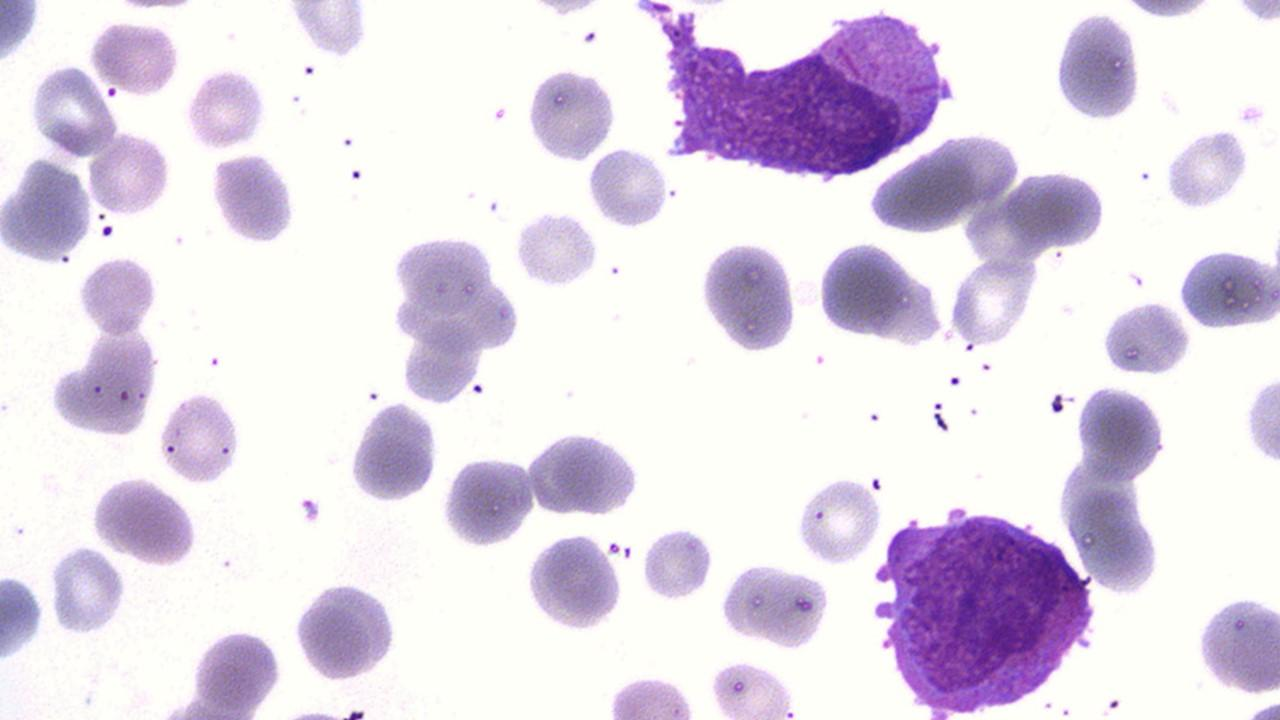Platelets: (1233, 98, 1269, 128), (870, 598, 894, 620), (1049, 391, 1067, 416), (872, 562, 892, 584), (932, 404, 948, 430), (606, 540, 624, 556), (99, 223, 113, 240), (301, 61, 316, 76), (622, 544, 634, 562), (470, 381, 485, 395), (106, 84, 119, 99), (946, 375, 960, 387), (932, 398, 945, 410), (783, 710, 798, 718)
RBC: (383, 221, 530, 410), (864, 134, 1008, 236), (45, 325, 162, 442), (697, 232, 803, 358), (290, 576, 402, 686), (523, 526, 629, 634), (1050, 6, 1146, 125), (527, 427, 644, 524), (88, 472, 203, 570), (813, 237, 916, 343), (717, 558, 833, 652), (0, 153, 95, 267), (345, 396, 442, 506), (1072, 380, 1174, 483), (522, 62, 622, 165), (438, 451, 537, 552), (1192, 588, 1280, 699), (1004, 168, 1110, 257), (1176, 242, 1280, 331), (207, 148, 298, 249), (945, 253, 1040, 349), (157, 385, 243, 490), (793, 474, 882, 568), (188, 625, 285, 711), (27, 63, 115, 157), (1098, 295, 1196, 379), (1163, 122, 1251, 215), (48, 540, 129, 640), (87, 16, 182, 100), (85, 129, 175, 217), (512, 206, 602, 291), (585, 144, 671, 232), (182, 66, 270, 151), (76, 253, 160, 338), (639, 522, 716, 606), (707, 656, 797, 720), (282, 0, 373, 61), (0, 572, 47, 666), (602, 674, 700, 718), (1242, 371, 1280, 470), (0, 0, 49, 71)
WBC: (620, 0, 956, 198), (864, 496, 1104, 716)
